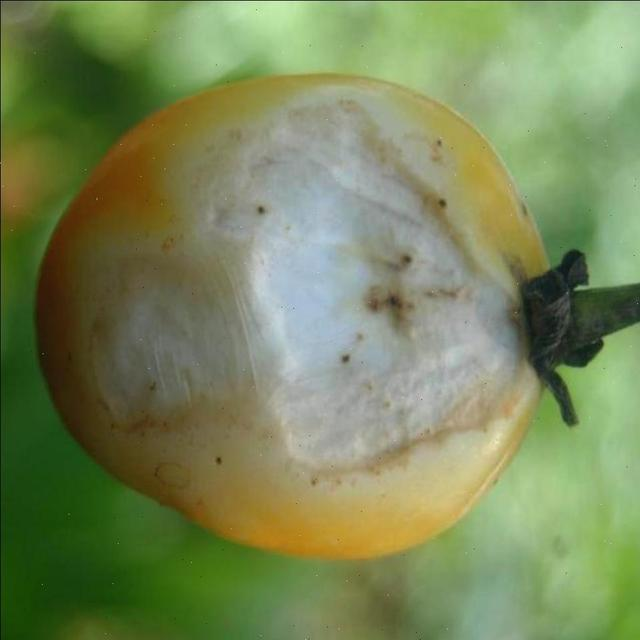Sunscald Fruit: (59, 55, 355, 320)
